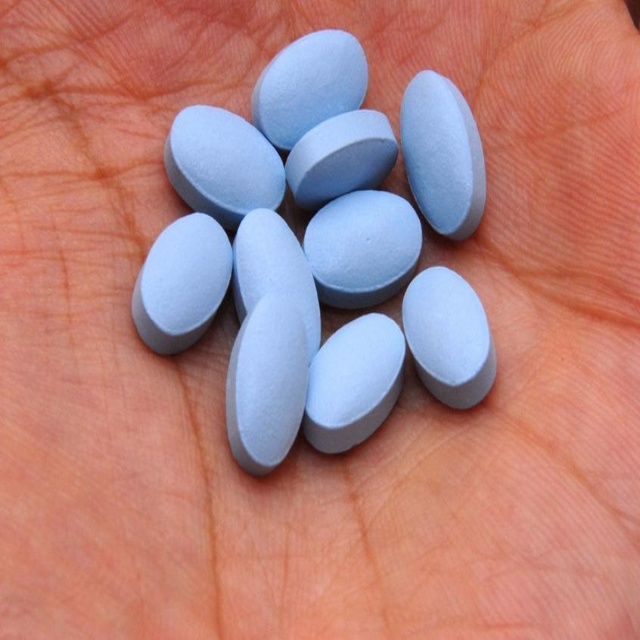pill: (297, 260, 408, 424), (395, 276, 538, 403), (305, 187, 427, 332), (170, 187, 311, 312), (400, 167, 561, 272), (530, 63, 640, 215), (331, 24, 488, 130), (214, 92, 377, 194), (530, 236, 640, 362), (377, 95, 527, 175)
